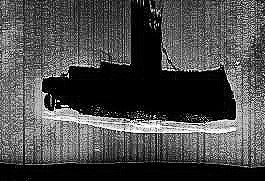ship: (42, 100, 241, 135)
